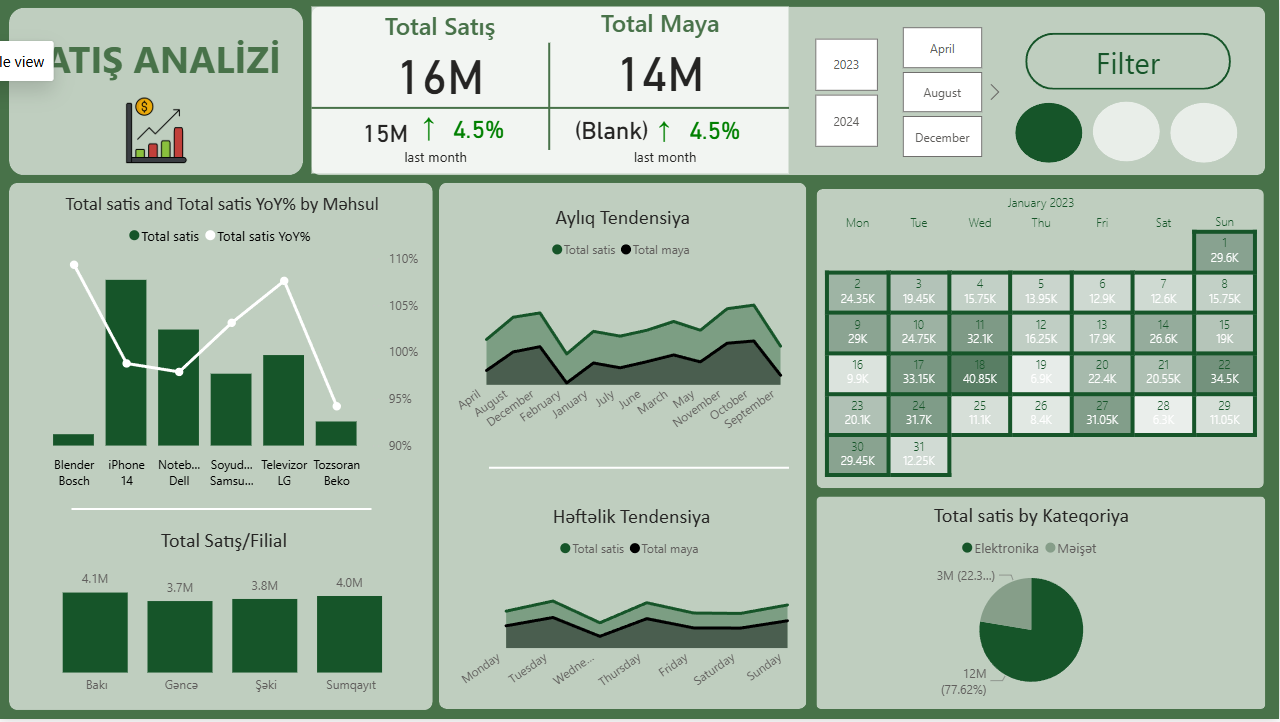

The page's visual inventory and layout, read from the dashboard file:
{"tool":"powerbi","page":{"name":"Satış","canvas":[1280,720],"ordinal":0},"visuals":[{"type":"shape","box":[312.5,7.5,953.8,168.8],"z":0},{"type":"card","title":"Total Satış","fields":{"Values":["Dax.Total satis"]},"box":[362.6,9.7,156.9,92.2],"z":0,"group":"g4"},{"type":"actionButton","box":[1025.7,34.3,205.7,57.1],"z":0,"group":"g3"},{"type":"card","fields":{"Values":["Dax.Total satis MoM%"]},"box":[432.8,93.5,94.6,72.3],"z":0,"group":"g2"},{"type":"textbox","box":[571.8,144,187.5,29.8],"z":0,"group":"g1"},{"type":"shape","box":[9.9,8.7,294.2,167.6],"z":1000},{"type":"shape","box":[546,43.3,7.9,107.2],"z":1000,"group":"g4"},{"type":"card","fields":{"Values":["Dax.Growth Icon"]},"box":[406.8,104.4,44.9,43.7],"z":1000,"group":"g2"},{"type":"card","fields":{"Values":["Dax.Əvvəlki ay maya"]},"box":[559.9,112.7,105.6,37.2],"z":1000,"group":"g1"},{"type":"card","title":"Total Maya","fields":{"Values":["Dax.Total maya"]},"box":[582.8,7.5,157.2,91.8],"z":2000,"group":"g4"},{"type":"card","fields":{"Values":["Dax.Əvvəlki ay gəlir"]},"box":[354.8,107.6,62.7,51.9],"z":2000,"group":"g2"},{"type":"card","fields":{"Values":["Dax.Total maya MoM%"]},"box":[676.1,111.2,79.2,40.2],"z":2000,"group":"g1"},{"type":"textbox","box":[20,28.6,292.9,62.9],"z":3000},{"type":"shape","box":[312.5,102.3,477.5,12.8],"z":3000,"group":"g4"},{"type":"card","fields":{"Values":["Dax.Growth Icon maya"]},"box":[640.4,112.7,50.2,35.7],"z":3000,"group":"g1"},{"type":"textbox","box":[359.7,143.8,153.5,30.3],"z":3000,"group":"g2"},{"type":"image","box":[105.7,94.3,102.9,75.7],"z":4000},{"type":"group","id":"g1","title":"Group 1","box":[559.9,111.2,198.3,61.9],"z":4000,"group":"g4"},{"type":"group","id":"g2","title":"Group 2","box":[354.8,93.5,172.6,80.6],"z":5000,"group":"g4"},{"type":"shape","box":[10,183.8,423.8,527.5],"z":5000},{"type":"group","id":"g3","title":"Group 5","box":[1025.7,34.3,205.7,57.1],"z":6000},{"type":"shape","box":[440,183.8,367.5,526.2],"z":7000},{"type":"areaChart","title":"Aylıq Tendensiya","fields":{"Category":["Tarix.Ay_adı"],"Y":["Dax.Total satis","Dax.Total maya"]},"box":[450,206.2,347.5,243.8],"z":8000},{"type":"areaChart","title":"Həftəlik Tendensiya","fields":{"Y":["Dax.Total satis","Dax.Total maya"],"Category":["Tarix.week_day"]},"box":[452.5,505,360,196.2],"z":9000},{"type":"columnChart","title":"Total Satış/Filial","fields":{"Category":["Satış.Filial"],"Y":["Dax.Total satis"]},"box":[25,528.8,400,175],"z":10000},{"type":"shape","box":[818,189.4,447.6,299.2],"z":11000},{"type":"bciCalendarCC0FA2BFE4B54EE1ACCFE383B9B1DE61","fields":{"measure":["Dax.Total satis"],"category":["Satış.Tarix"]},"box":[818.6,190,447.1,298.6],"z":12000},{"type":"shape","box":[817.5,497.5,448.8,212.5],"z":13000},{"type":"pieChart","fields":{"Category":["Satış.Kateqoriya"],"Y":["Dax.Total satis"]},"box":[903.8,503.8,257.5,200],"z":14000},{"type":"shape","box":[1015.7,104.3,67.1,60],"z":15000},{"type":"shape","box":[1094.3,102.9,67.1,60],"z":16000},{"type":"shape","box":[1171.4,104.3,67.1,60],"z":17000},{"type":"actionButton","box":[1094.3,102.9,67.1,61.4],"z":18000},{"type":"actionButton","box":[1171.4,101.4,67.1,61.4],"z":19000},{"type":"slicer","fields":{"Values":["Tarix.Ay_adı"]},"box":[876.9,7.3,129.6,157.5],"z":20000},{"type":"lineStackedColumnComboChart","fields":{"Category":["Satış.Məhsul"],"Y":["Dax.Total satis"],"Y2":["Dax.Total satis YoY%"]},"box":[21.2,193.8,403.8,303.8],"z":21000},{"type":"shape","box":[490,463.8,300,10],"z":22000},{"type":"shape","box":[72.5,505,300,10],"z":23000},{"type":"group","id":"g4","title":"Group 4","box":[312.5,7.5,477.5,167.5],"z":24000},{"type":"slicer","fields":{"Values":["Tarix.il"]},"box":[789.7,32.7,112.6,122.3],"z":26000}]}

Visuals, with their boxes on the page's 1280x720 design canvas (x1, y1, x2, y2). These are canvas units, not pixel positions in the 1280x722 screenshot, which may show the page scaled, cropped or inside an application window:
shape: [312, 8, 1266, 176]
"Total Satış" card: [363, 10, 520, 102]
actionButton: [1026, 34, 1231, 91]
card - Dax.Total satis MoM%: [433, 94, 527, 166]
textbox: [572, 144, 759, 174]
shape: [10, 9, 304, 176]
shape: [546, 43, 554, 150]
card - Dax.Growth Icon: [407, 104, 452, 148]
card - Dax.Əvvəlki ay maya: [560, 113, 666, 150]
"Total Maya" card: [583, 8, 740, 99]
card - Dax.Əvvəlki ay gəlir: [355, 108, 418, 160]
card - Dax.Total maya MoM%: [676, 111, 755, 151]
textbox: [20, 29, 313, 92]
shape: [312, 102, 790, 115]
card - Dax.Growth Icon maya: [640, 113, 691, 148]
textbox: [360, 144, 513, 174]
image: [106, 94, 209, 170]
"Group 1" group: [560, 111, 758, 173]
"Group 2" group: [355, 94, 527, 174]
shape: [10, 184, 434, 711]
"Group 5" group: [1026, 34, 1231, 91]
shape: [440, 184, 808, 710]
"Aylıq Tendensiya" areaChart: [450, 206, 798, 450]
"Həftəlik Tendensiya" areaChart: [452, 505, 812, 701]
"Total Satış/Filial" columnChart: [25, 529, 425, 704]
shape: [818, 189, 1266, 489]
bciCalendarCC0FA2BFE4B54EE1ACCFE383B9B1DE61 - Dax.Total satis x Satış.Tarix: [819, 190, 1266, 489]
shape: [818, 498, 1266, 710]
pieChart - Satış.Kateqoriya x Dax.Total satis: [904, 504, 1161, 704]
shape: [1016, 104, 1083, 164]
shape: [1094, 103, 1161, 163]
shape: [1171, 104, 1238, 164]
actionButton: [1094, 103, 1161, 164]
actionButton: [1171, 101, 1238, 163]
slicer - Tarix.Ay_adı: [877, 7, 1006, 165]
lineStackedColumnComboChart - Satış.Məhsul x Dax.Total satis: [21, 194, 425, 498]
shape: [490, 464, 790, 474]
shape: [72, 505, 372, 515]
"Group 4" group: [312, 8, 790, 175]
slicer - Tarix.il: [790, 33, 902, 155]
